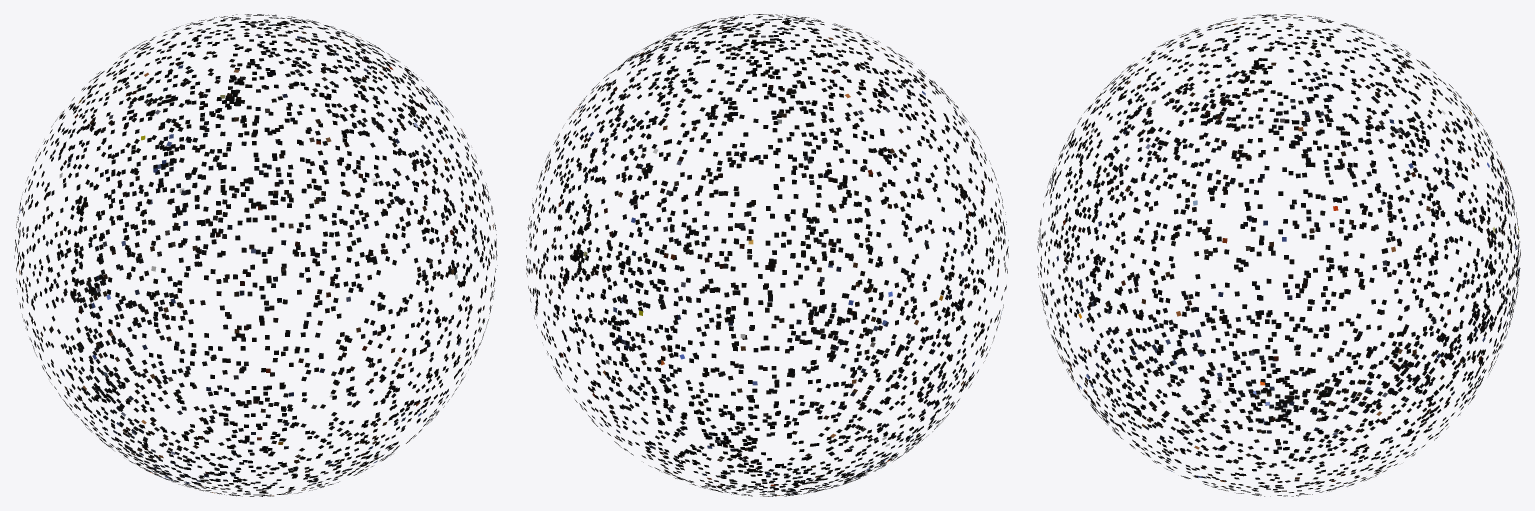
File: StarMesh.fbx
3 renders of one model, left to right at view 1: azimuth 30°, elevation 25°; view 2: azimuth 150°, elevation 25°; view 3: azimuth 270°, elevation 25°, orthographic.
Parts seen in each view (by area): view 1: StarMesh; view 2: StarMesh; view 3: StarMesh.
Boxes of the visible parts, x1,y1,x2,y2 form: StarMesh: (14,14,497,496); StarMesh: (526,14,1008,496); StarMesh: (1037,14,1520,496).
Size of the model in its own units: 197900 by 198004 by 198006.
